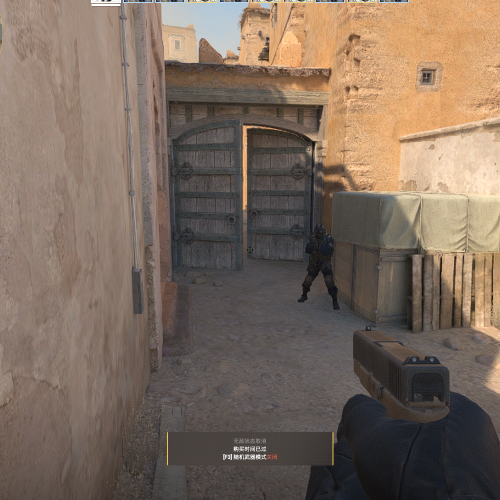ct_body: (298, 224, 341, 310)
ct_head: (313, 224, 327, 239)
